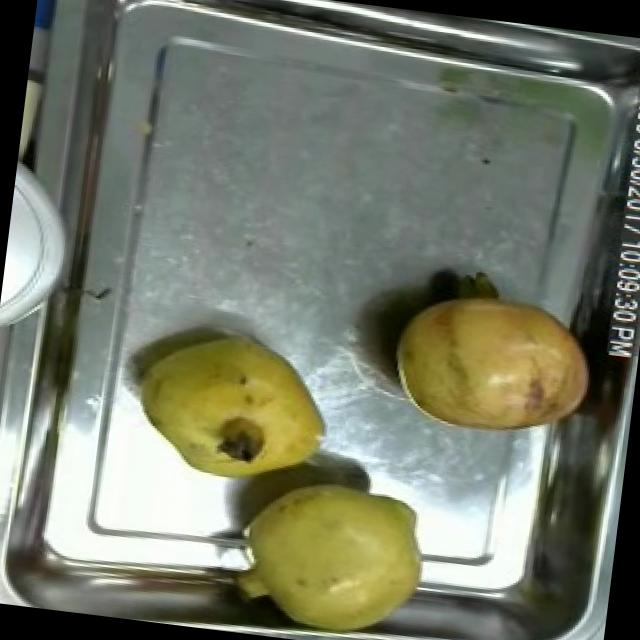fruit: (116, 314, 348, 496), (212, 458, 442, 640), (378, 268, 606, 450)
